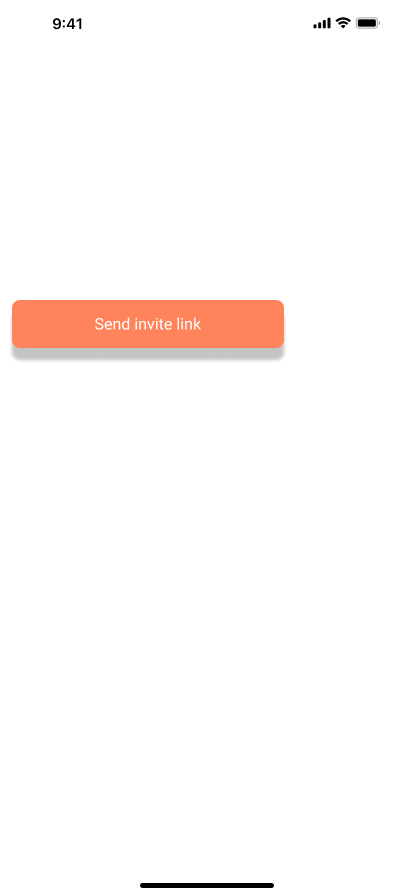Buttons: (8, 300, 288, 364)
Home Indicator: (0, 862, 414, 896)
Status Bar: (0, 0, 414, 44)
